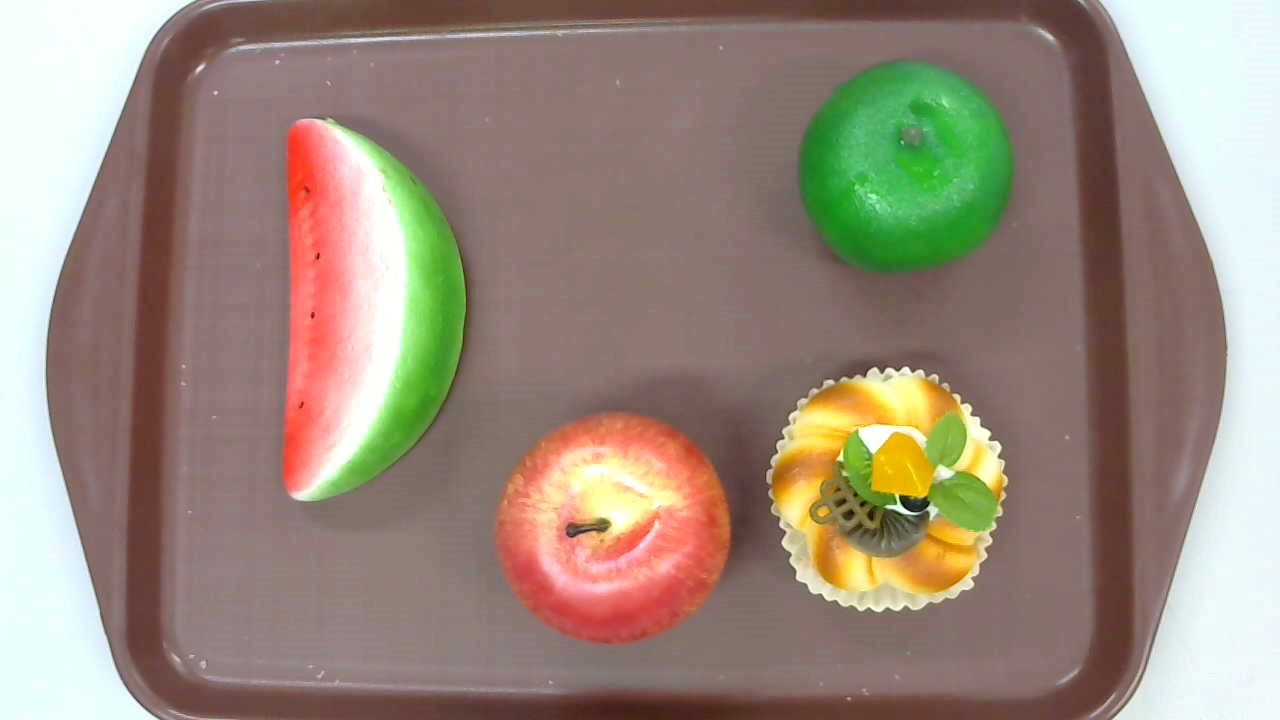fruit tart: (765, 365, 1009, 612)
green orange: (798, 60, 1012, 275)
red apple: (495, 411, 733, 645)
water melon: (281, 118, 466, 502)
